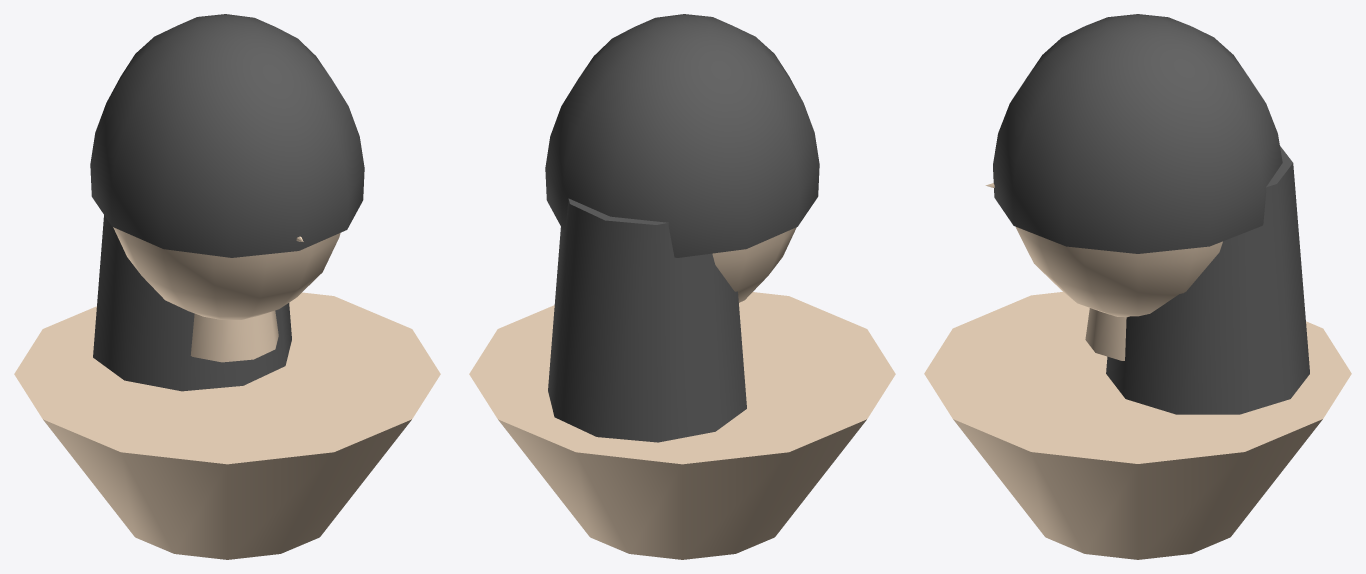
The model's file is raw_001.glb.
3 views of the same model, side by side, from view 1: azimuth 30°, elevation 25°; view 2: azimuth 150°, elevation 25°; view 3: azimuth 270°, elevation 25° (orthographic).
Size of the model in its own units: 1.71 by 2.16 by 1.71.
